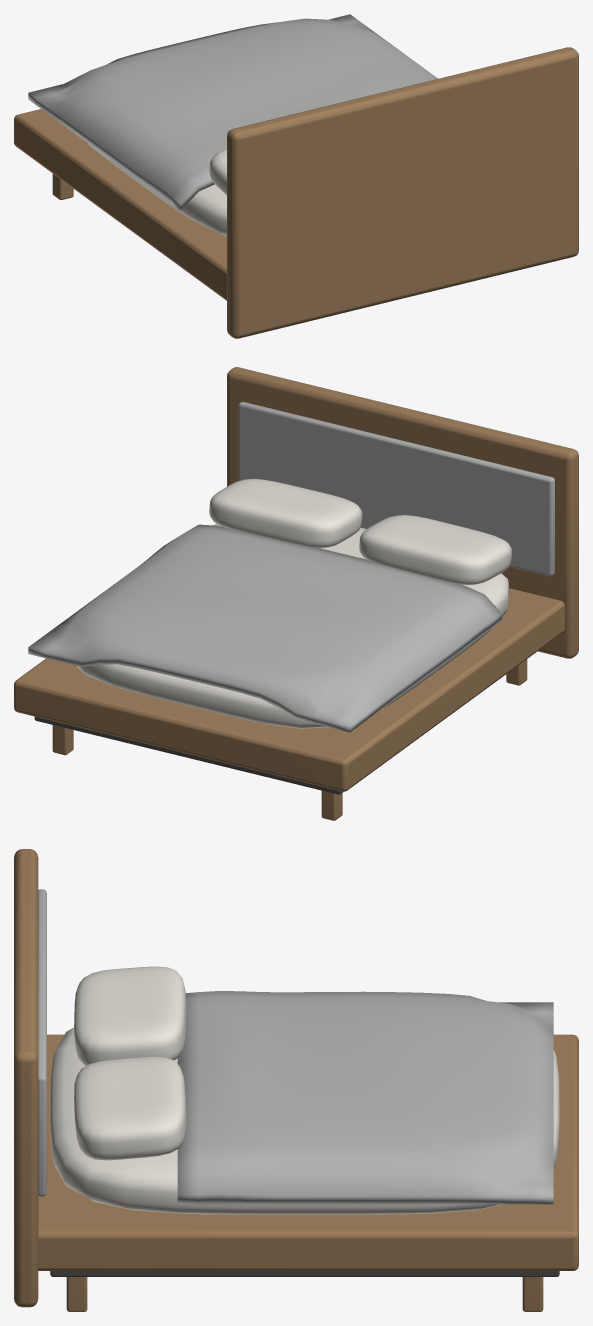
The model's file is BedroomBed.fbx.
The picture shows the model from 3 angles, top to bottom: view 1: azimuth 30°, elevation 25°; view 2: azimuth 150°, elevation 25°; view 3: azimuth 270°, elevation 25°; orthographic projection. The views are drawn at different scales.
Parts seen in each view (by area): view 1: BedroomBed; view 2: BedroomBed; view 3: BedroomBed.
Boxes of the visible parts, <box> form: BedroomBed: <box>14,14,578,338</box>; BedroomBed: <box>14,367,578,820</box>; BedroomBed: <box>14,849,578,1311</box>.
Size of the model in its own units: 2.04 by 1.26 by 2.33.
